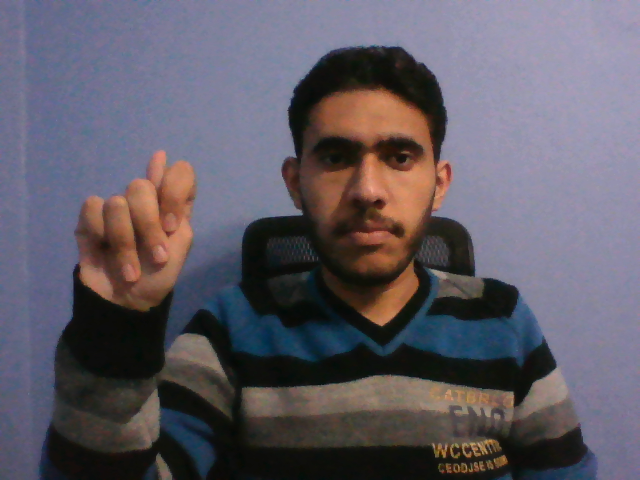T: (68, 142, 203, 321)
